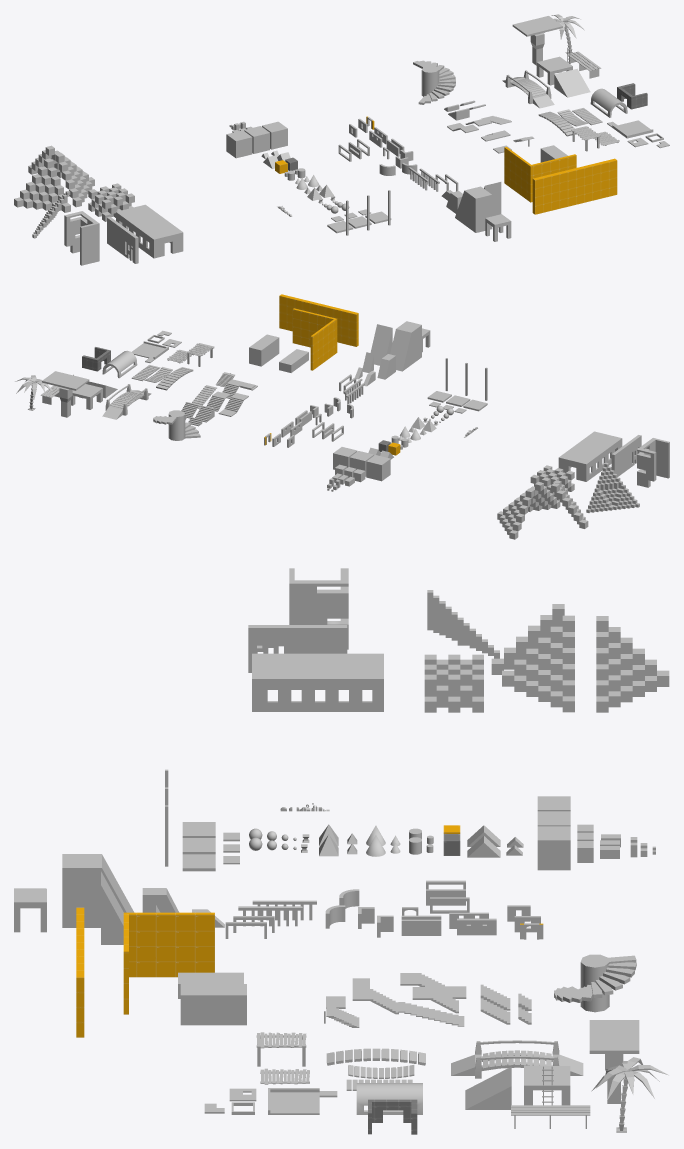
Rendered from GameTemplateOneFbx.FBX.
3 views of the same model, one above another, from view 1: azimuth 30°, elevation 25°; view 2: azimuth 150°, elevation 25°; view 3: azimuth 270°, elevation 25° (orthographic). The views are drawn at different scales.
Visible parts, largest first — view 1: BigStrumpyWall_size_x2.5_y20_z50, HangarBooleanWindowsOrange_size_x18_y11_z40, WallCorner, BoxWallLightGrey_size_x22_y22_z22, WallBigHardCornerOrange_size_x11_y22_z18, RampHighLong_size_x10_y20_z22, StairsRounded_size_x25_y15_z25, BoxSquareOrange_size_x18_y11_z18, BoxWallDarkGrey_size_x22_y22_z22, PillarHigh_size_x7_y40_z7, WallBooleanWindowsNotSymmetric_size_x2_y15_z30, Bridge_size_x7_y40_z7 (+14 smaller); view 2: WallCorner, HangarBooleanWindowsOrange_size_x18_y11_z40, BigStrumpyWall_size_x2.5_y20_z50, SmallBoxWall_size_x22_y22_z22, WallBigHardCornerOrange_size_x11_y22_z18, RampHighLong_size_x10_y20_z22, BoxWallOrange_size_x22_y22_z22, PillarHigh_size_x7_y40_z7, StairsRounded_size_x25_y15_z25, Bridge_size_x7_y40_z7, BoxSquareOrange_size_x18_y11_z18, WallBooleanWindowsNotSymmetric_size_x2_y15_z30 (+11 smaller); view 3: HangarBooleanWindowsOrange_size_x18_y11_z40, WallCorner, BoxWallOrange_size_x22_y22_z22, BoxWallDarkGrey_size_x22_y22_z22, BoxSquareOrange_size_x18_y11_z18, RampHighLong_size_x10_y20_z22, WallBooleanWindowsNotSymmetric_size_x2_y15_z30, WallBigHardCornerOrange_size_x11_y22_z18, StairsBoxStandSmall_size_x8_y10_z20, StairsRounded_size_x25_y15_z25, Bridge_size_x7_y40_z7, PillarHigh_size_x7_y40_z7 (+16 smaller).
Boxes of the visible parts, x1=… form: BigStrumpyWall_size_x2.5_y20_z50: x1=532, y1=158, x2=617, y2=214; HangarBooleanWindowsOrange_size_x18_y11_z40: x1=116, y1=204, x2=183, y2=258; WallCorner: x1=504, y1=147, x2=576, y2=202; BoxWallLightGrey_size_x22_y22_z22: x1=14, y1=158, x2=70, y2=212; WallBigHardCornerOrange_size_x11_y22_z18: x1=64, y1=211, x2=99, y2=265; RampHighLong_size_x10_y20_z22: x1=455, y1=186, x2=492, y2=232; StairsRounded_size_x25_y15_z25: x1=413, y1=60, x2=455, y2=104; BoxSquareOrange_size_x18_y11_z18: x1=88, y1=183, x2=134, y2=221; BoxWallDarkGrey_size_x22_y22_z22: x1=55, y1=153, x2=94, y2=207; PillarHigh_size_x7_y40_z7: x1=512, y1=16, x2=562, y2=65; WallBooleanWindowsNotSymmetric_size_x2_y15_z30: x1=107, y1=216, x2=138, y2=263; Bridge_size_x7_y40_z7: x1=502, y1=70, x2=554, y2=108; WallCorner: x1=292, y1=308, x2=337, y2=370; HangarBooleanWindowsOrange_size_x18_y11_z40: x1=558, y1=431, x2=622, y2=481; BigStrumpyWall_size_x2.5_y20_z50: x1=279, y1=294, x2=358, y2=346; SmallBoxWall_size_x22_y22_z22: x1=586, y1=462, x2=639, y2=512; WallBigHardCornerOrange_size_x11_y22_z18: x1=637, y1=438, x2=669, y2=487; RampHighLong_size_x10_y20_z22: x1=390, y1=321, x2=421, y2=371; BoxWallOrange_size_x22_y22_z22: x1=497, y1=488, x2=534, y2=539; PillarHigh_size_x7_y40_z7: x1=42, y1=371, x2=89, y2=417; StairsRounded_size_x25_y15_z25: x1=153, y1=410, x2=200, y2=440; Bridge_size_x7_y40_z7: x1=102, y1=384, x2=151, y2=419; BoxSquareOrange_size_x18_y11_z18: x1=530, y1=465, x2=574, y2=500; WallBooleanWindowsNotSymmetric_size_x2_y15_z30: x1=611, y1=435, x2=641, y2=476; HangarBooleanWindowsOrange_size_x18_y11_z40: x1=252, y1=653, x2=383, y2=711; WallCorner: x1=123, y1=912, x2=214, y2=1014; BoxWallOrange_size_x22_y22_z22: x1=596, y1=616, x2=669, y2=712; BoxWallDarkGrey_size_x22_y22_z22: x1=502, y1=615, x2=574, y2=712; BoxSquareOrange_size_x18_y11_z18: x1=424, y1=654, x2=483, y2=712; RampHighLong_size_x10_y20_z22: x1=62, y1=854, x2=134, y2=927; WallBooleanWindowsNotSymmetric_size_x2_y15_z30: x1=248, y1=625, x2=347, y2=672; WallBigHardCornerOrange_size_x11_y22_z18: x1=289, y1=568, x2=348, y2=649; StairsBoxStandSmall_size_x8_y10_z20: x1=180, y1=984, x2=246, y2=1025; StairsRounded_size_x25_y15_z25: x1=554, y1=954, x2=636, y2=1012; Bridge_size_x7_y40_z7: x1=451, y1=1040, x2=583, y2=1078; PillarHigh_size_x7_y40_z7: x1=589, y1=1020, x2=639, y2=1103.
Bounding box in the file's own units: 369 × 22.08 × 198.
